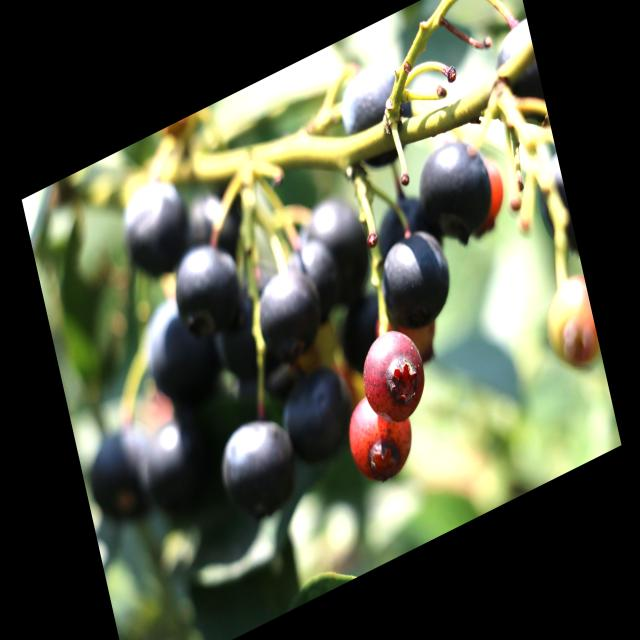blueberry: (247, 227, 349, 368), (136, 278, 226, 426), (410, 127, 501, 259), (75, 403, 160, 542), (211, 399, 304, 525), (330, 52, 420, 180), (137, 406, 220, 530), (305, 184, 380, 318), (372, 218, 456, 336), (280, 354, 359, 471), (168, 229, 248, 339), (118, 173, 195, 287), (481, 21, 547, 134)
blueberry-halfripe: (354, 315, 434, 435), (342, 374, 423, 489), (536, 274, 602, 382)
